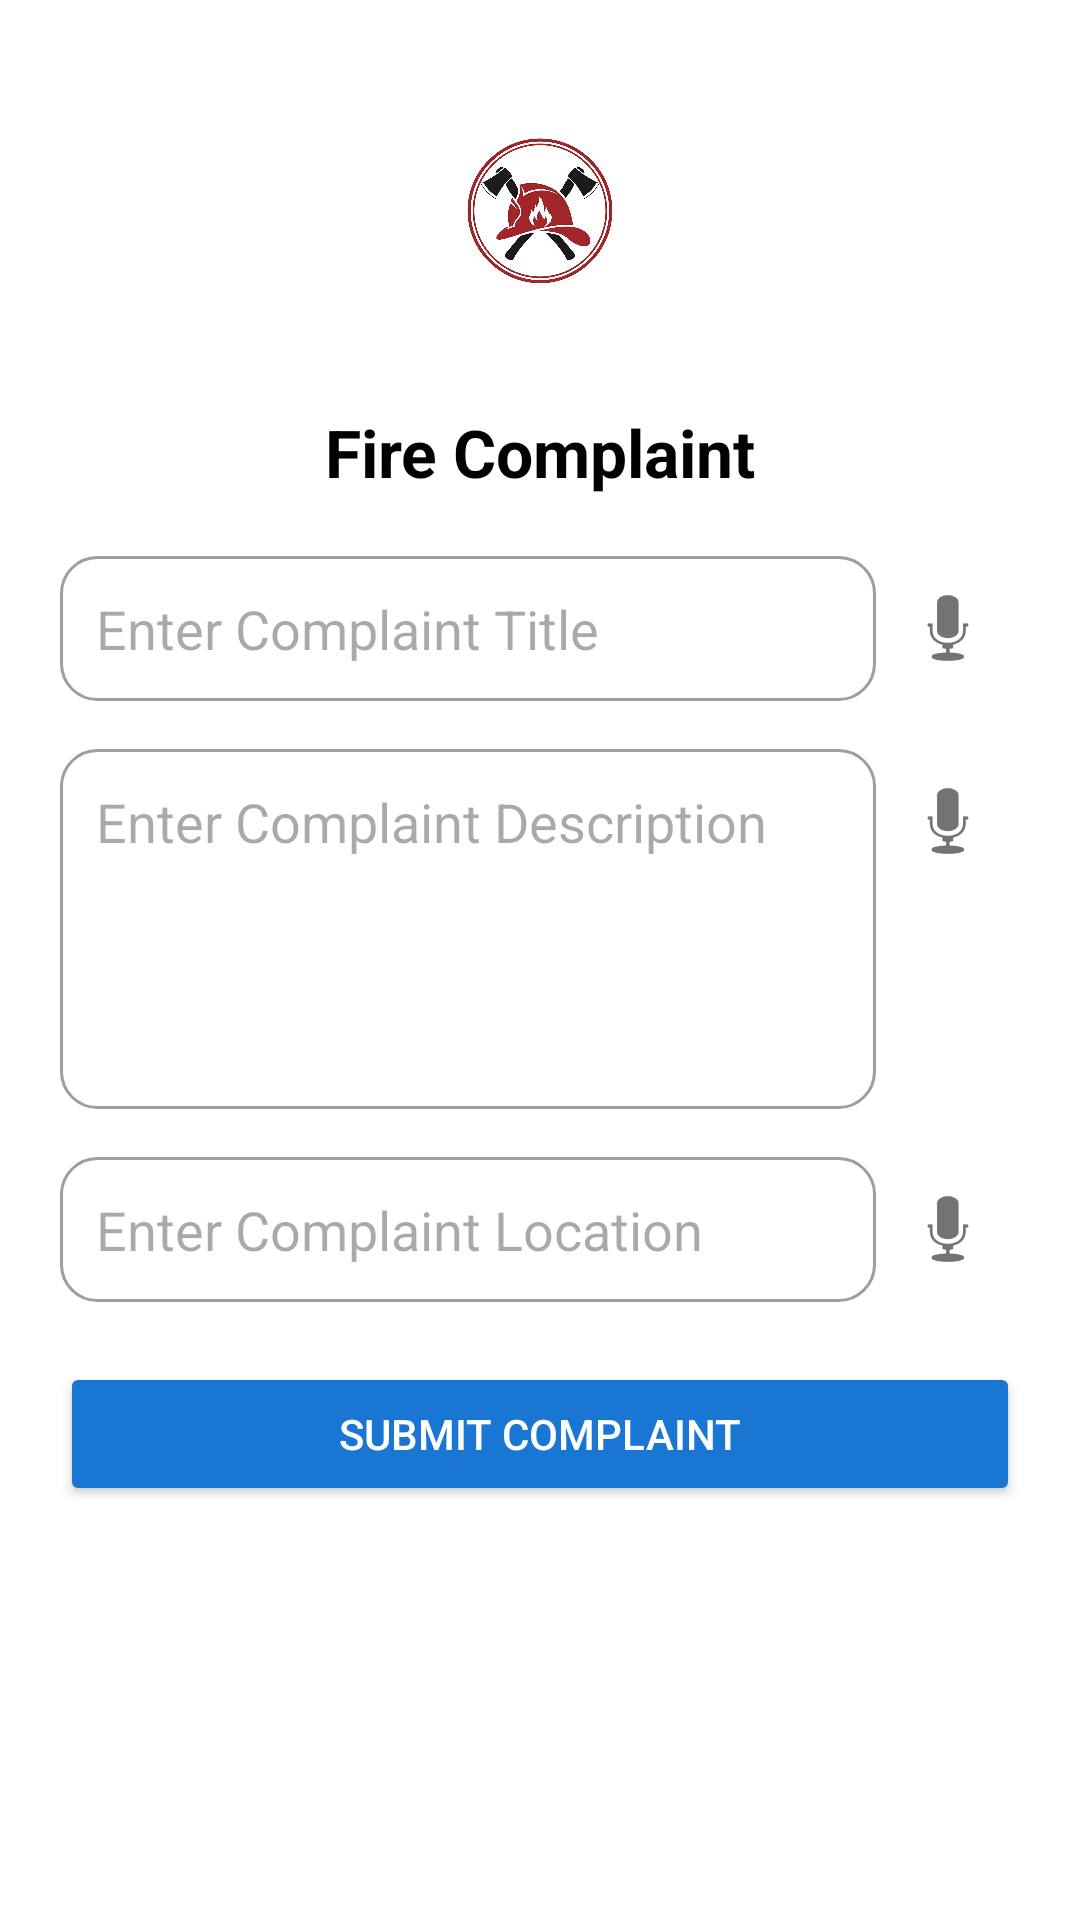

Where icons sit on this 1080 × 1920 app screen, as (x1, y1, x2, y2):
Voice input for description: (927, 788, 969, 854)
Voice input for location: (927, 1196, 969, 1262)
Voice input for title: (927, 595, 969, 661)
